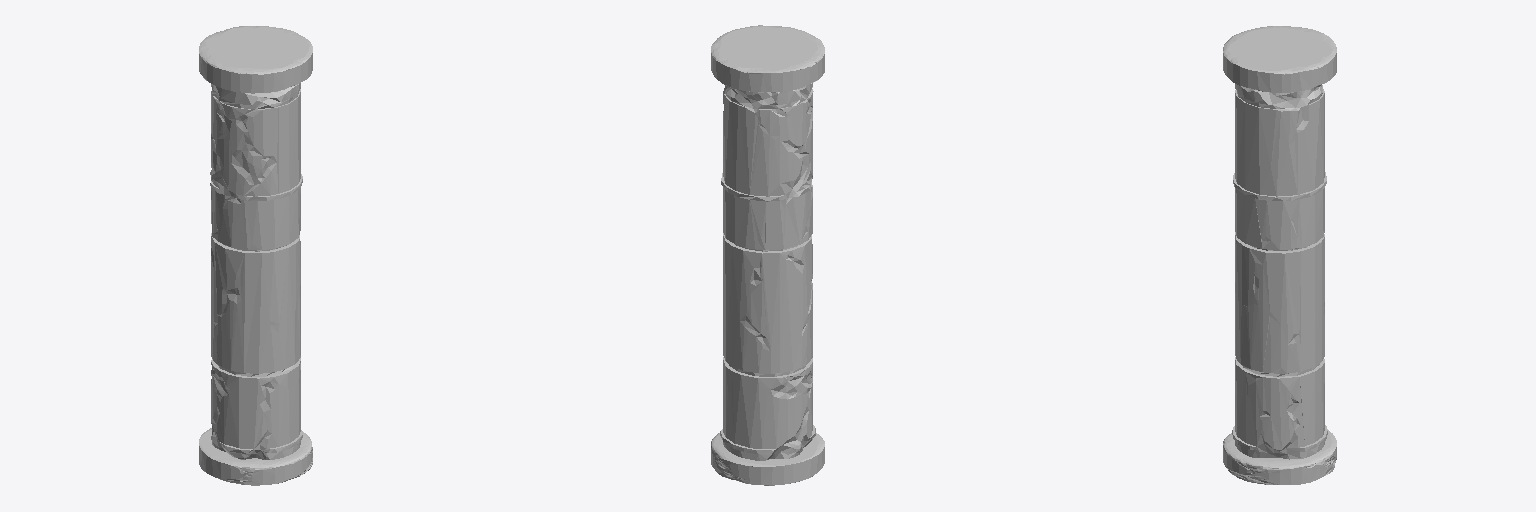
The model's file is Pillar.obj.
3 renders of one model, left to right at view 1: azimuth 30°, elevation 25°; view 2: azimuth 150°, elevation 25°; view 3: azimuth 270°, elevation 25°, orthographic.
Visible parts, largest first — view 1: PILLAR; view 2: PILLAR; view 3: PILLAR.
Boxes of the visible parts, x1=… form: PILLAR: x1=199, y1=26, x2=312, y2=485; PILLAR: x1=711, y1=25, x2=824, y2=485; PILLAR: x1=1223, y1=26, x2=1336, y2=484.
Bounding box in the file's own units: 2 × 7.99 × 2.